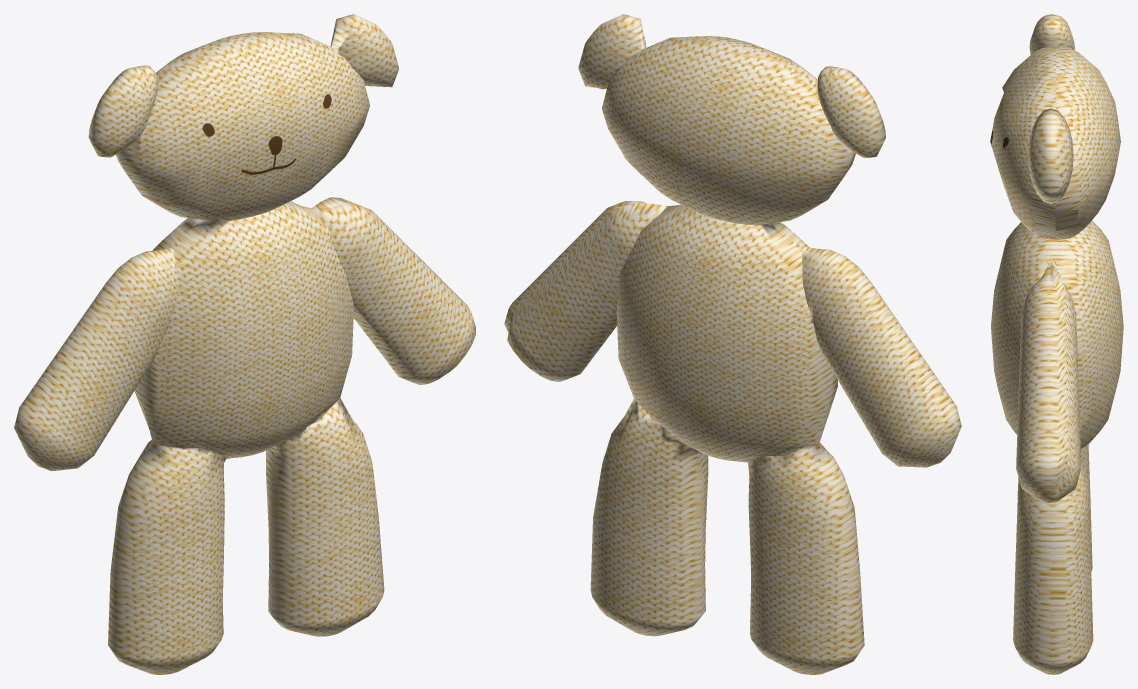
The model's file is teddy.fbx.
3 renders of one model, left to right at view 1: azimuth 30°, elevation 25°; view 2: azimuth 150°, elevation 25°; view 3: azimuth 270°, elevation 25°, orthographic. The views are drawn at different scales.
Visible parts, largest first — view 1: pSphere35; view 2: pSphere35; view 3: pSphere35.
Boxes of the visible parts, x1,y1,x2,y2 form: pSphere35: (14,14,475,674); pSphere35: (504,14,961,674); pSphere35: (990,14,1123,674).
Size of the model in its own units: 164 by 211 by 45.06.
